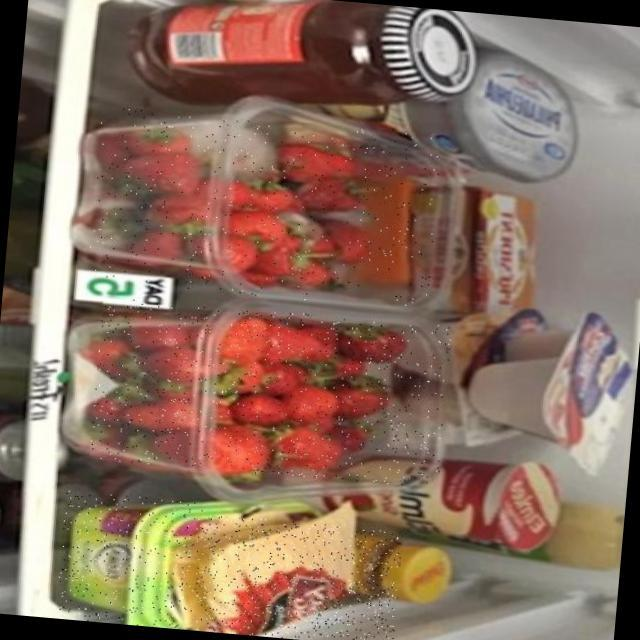Mantequilla: (54, 490, 203, 630)
Queso: (186, 512, 401, 640)
strawberries: (85, 107, 441, 312), (88, 295, 451, 489)
